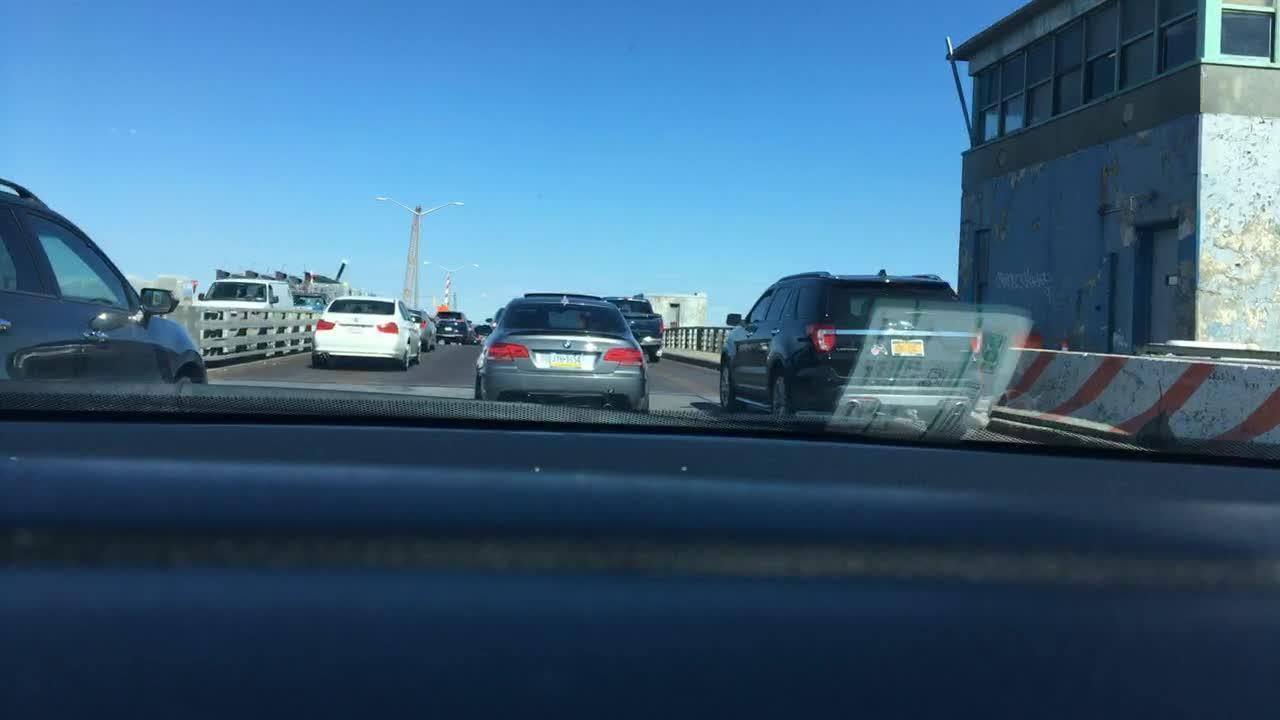bmw: (561, 340, 574, 351)
